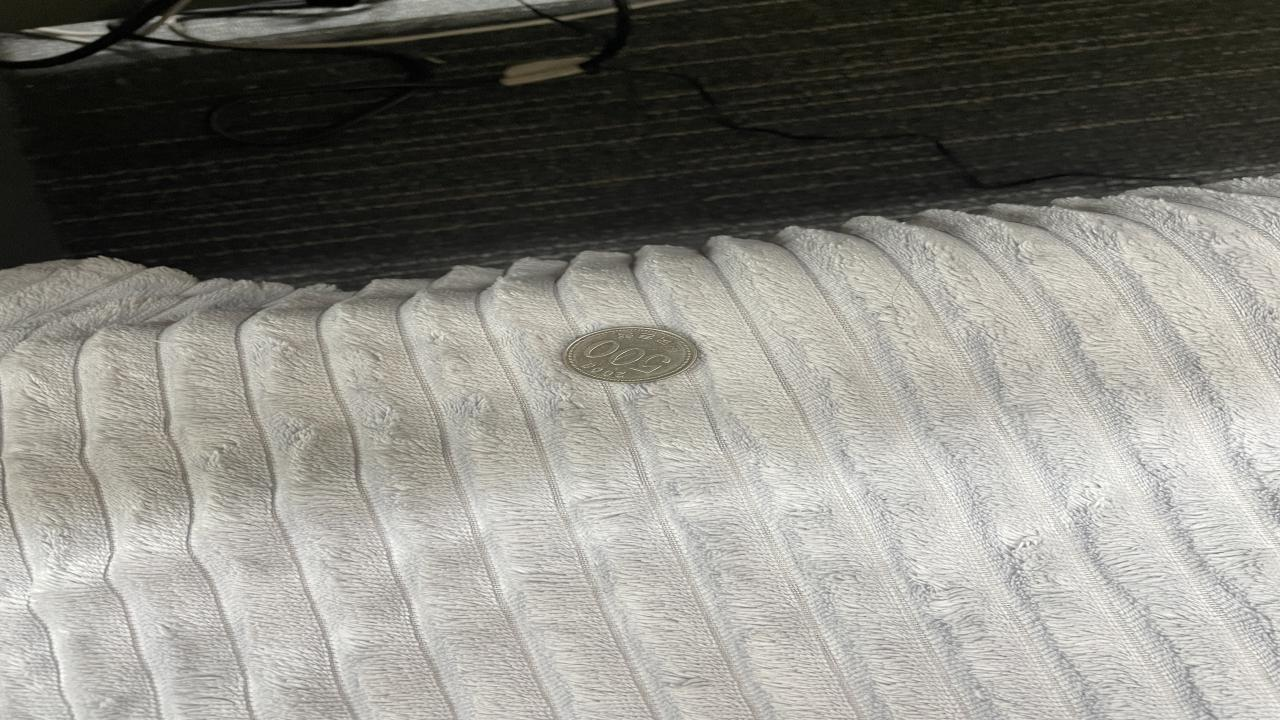coin: (560, 326, 703, 385)
